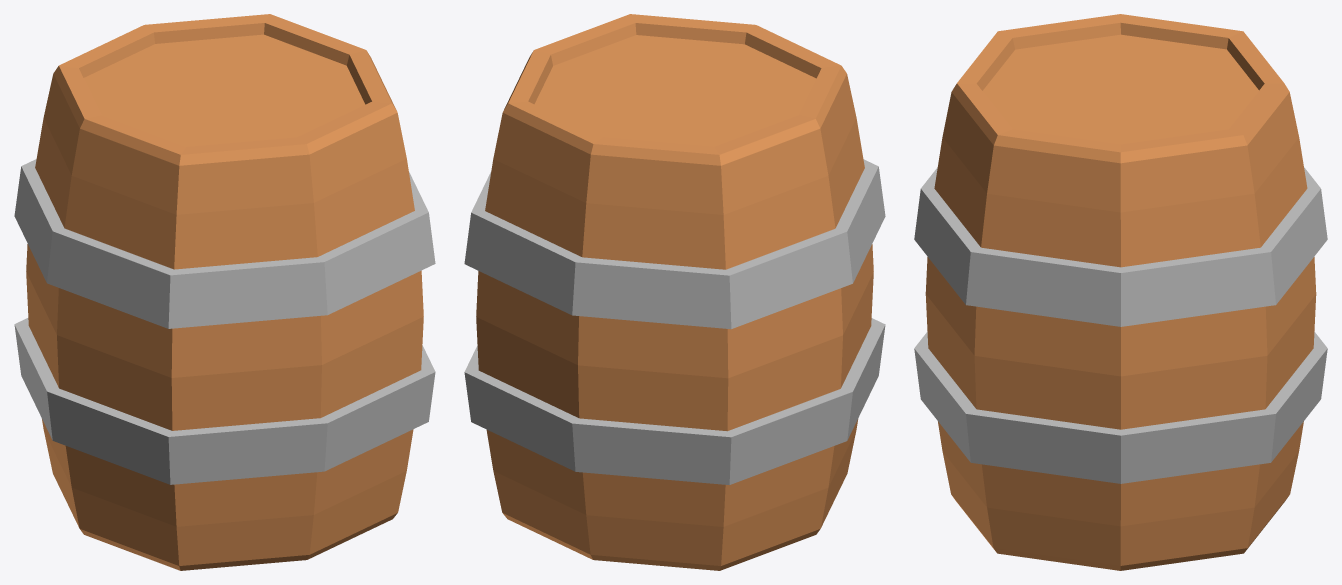
File: obj_Barrel.fbx
3 renders of one model, left to right at view 1: azimuth 30°, elevation 25°; view 2: azimuth 150°, elevation 25°; view 3: azimuth 270°, elevation 25°, orthographic.
Parts seen in each view (by area): view 1: geo_Barrel; view 2: geo_Barrel; view 3: geo_Barrel.
Boxes of the visible parts, x1,y1,x2,y2 form: geo_Barrel: (14,14,435,570); geo_Barrel: (464,14,885,570); geo_Barrel: (914,14,1327,570).
Bounding box in the file's own units: 118 × 132 × 118.
